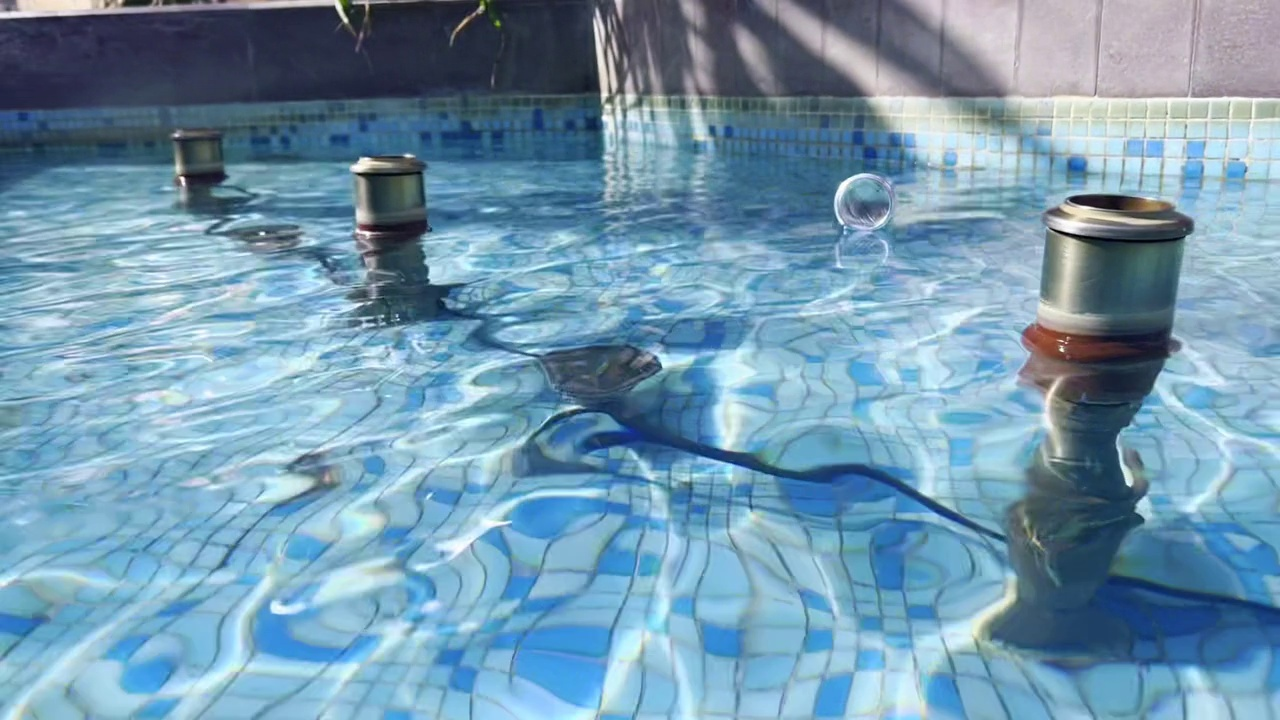debris: (831, 161, 896, 237)
